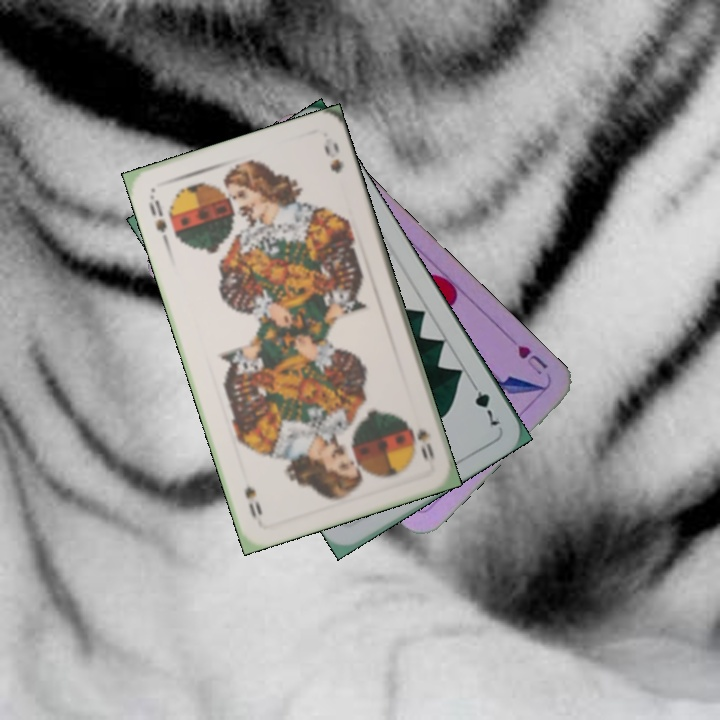G7: (466, 376, 502, 429)
HU: (513, 341, 551, 378)
SO: (145, 190, 172, 248), (413, 424, 437, 468)
